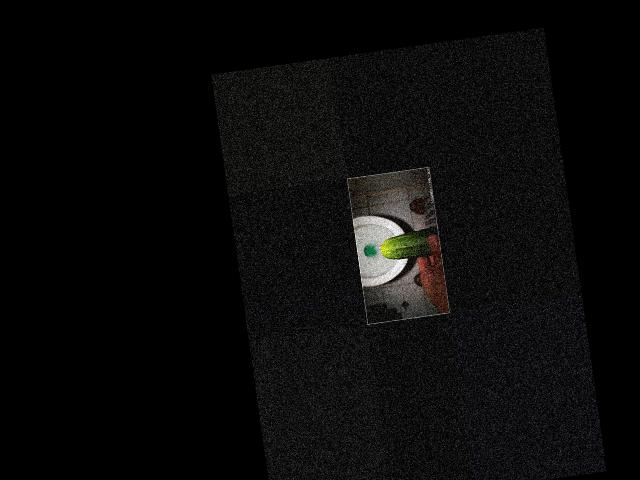cucumber: (378, 225, 442, 261)
